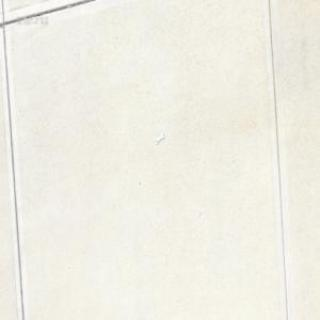Wrenchtrack_idkeyframe: (154, 133, 164, 143)
